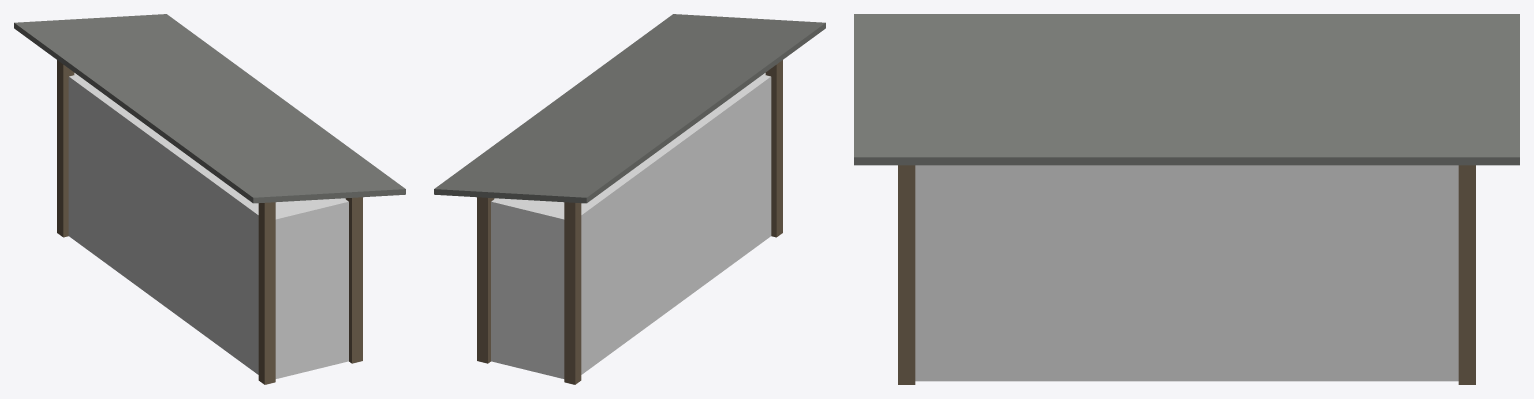
File: izba-woodpile.glb
The picture shows the model from 3 angles, left to right: view 1: azimuth 30°, elevation 25°; view 2: azimuth 150°, elevation 25°; view 3: azimuth 270°, elevation 25°; orthographic projection. The views are drawn at different scales.
Parts seen in each view (by area): view 1: solid, 01_paint2, 00_#7a6a56; view 2: solid, 01_paint2, 00_#7a6a56; view 3: solid, 01_paint2, 00_#7a6a56.
Part boxes in pixels (x1,y1,x2,y2): solid: [68, 73, 348, 378]; 01_paint2: [14, 14, 405, 203]; 00_#7a6a56: [57, 60, 362, 384]; solid: [491, 73, 771, 378]; 01_paint2: [434, 14, 825, 203]; 00_#7a6a56: [477, 60, 782, 384]; solid: [915, 165, 1458, 381]; 01_paint2: [854, 14, 1519, 165]; 00_#7a6a56: [898, 165, 1475, 384].
Bounding box in the file's own units: 1.4 × 1.8 × 3.8.
